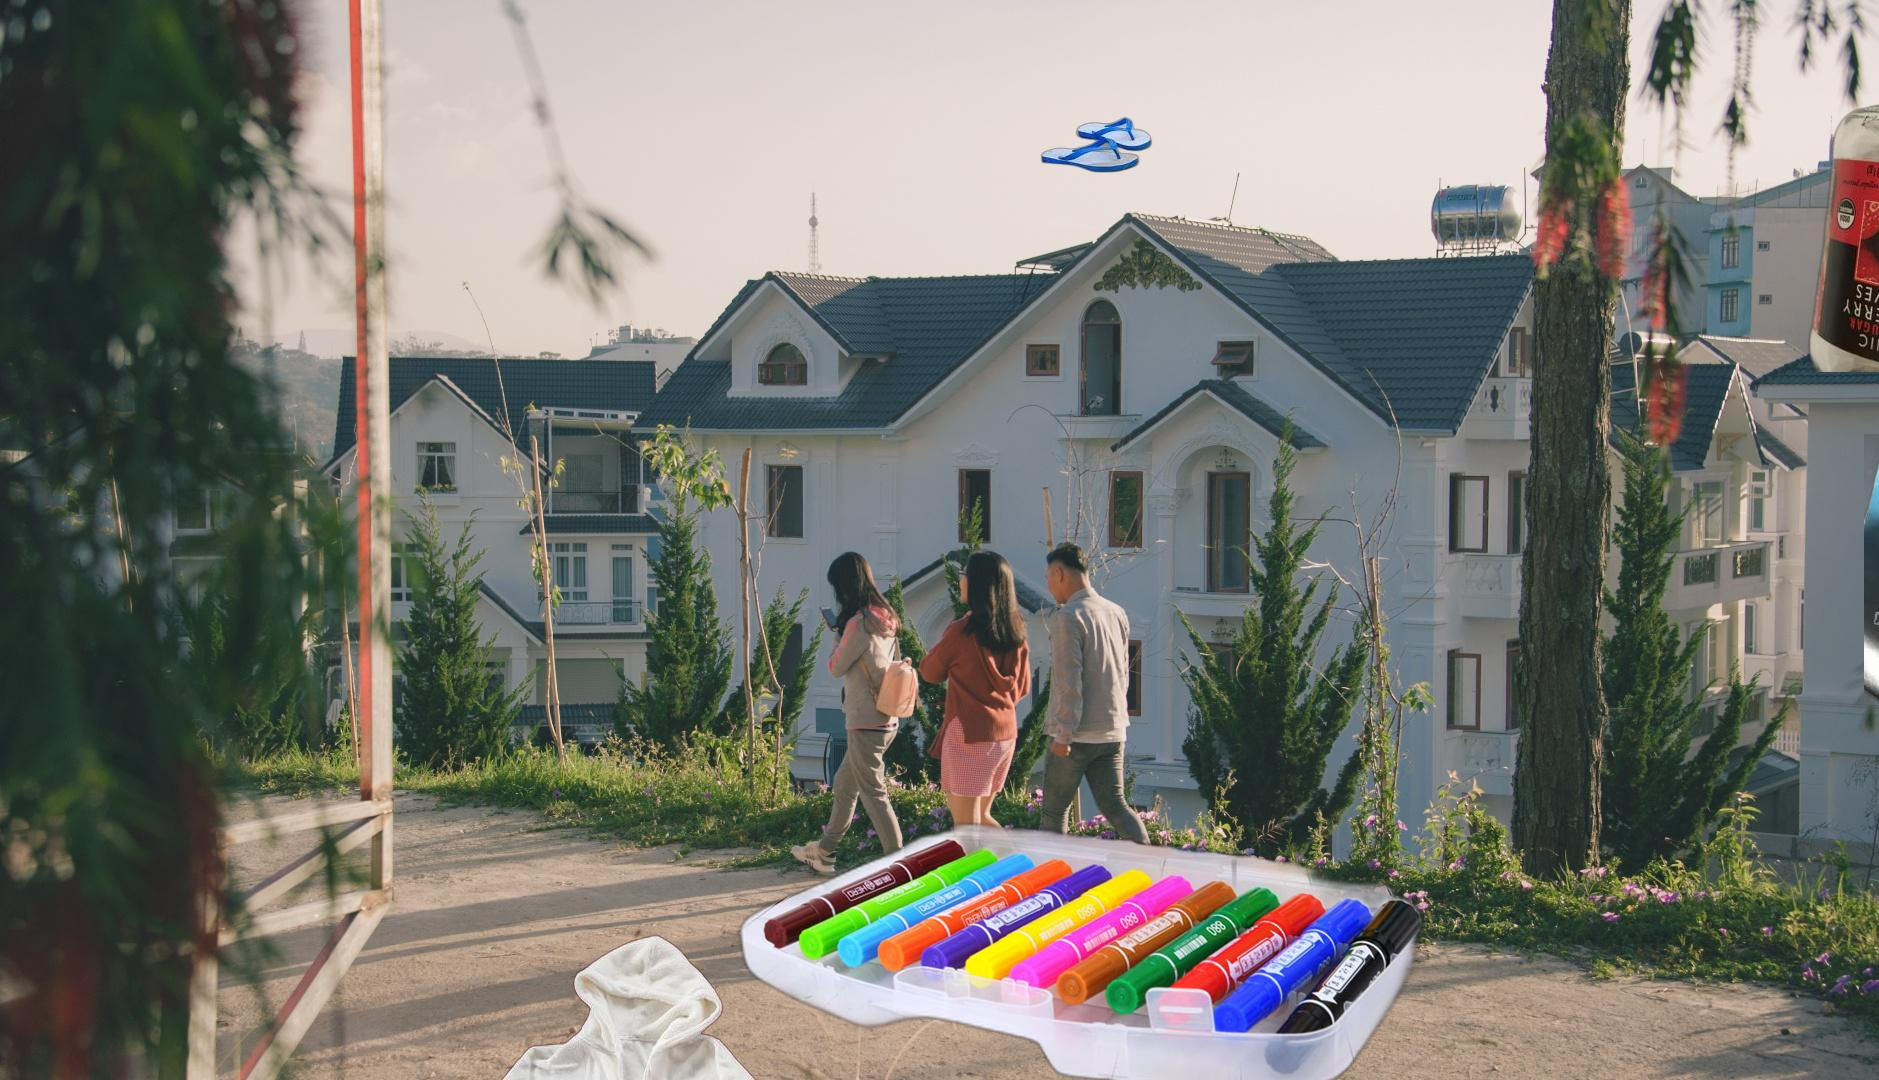clothes: (444, 932, 819, 1080)
glass: (1805, 102, 1879, 372)
paper: (1864, 434, 1879, 797)
penholder: (727, 815, 1467, 1080)
shoes: (1038, 115, 1154, 175)
